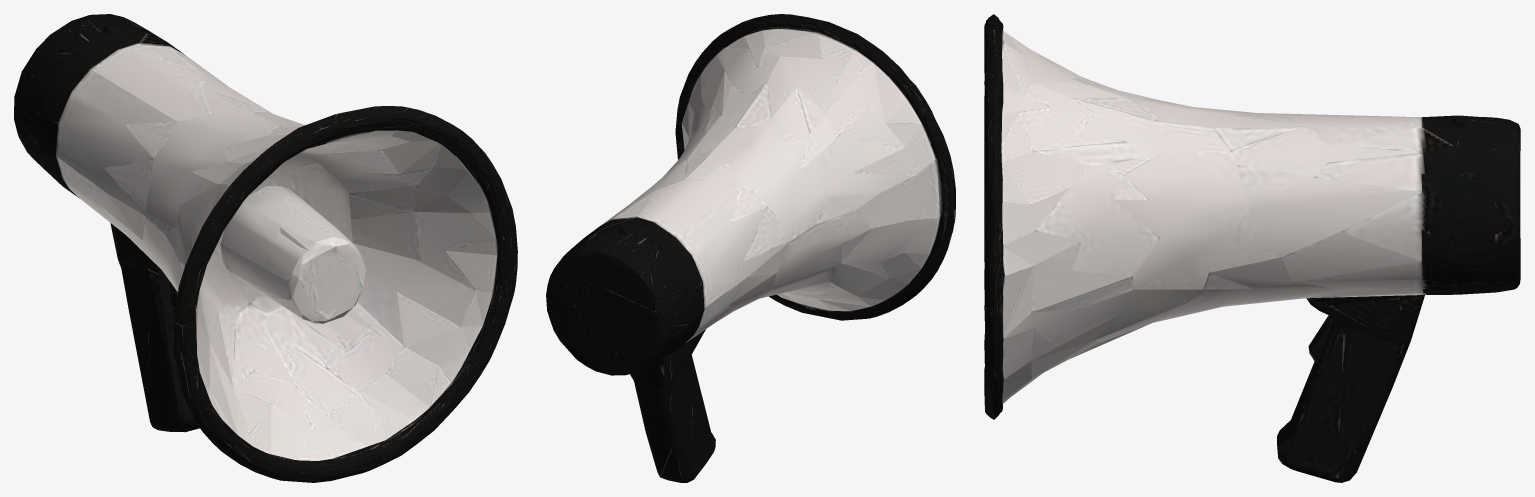
Rendered from megaphone.glb.
The picture shows the model from 3 angles, left to right: view 1: azimuth 30°, elevation 25°; view 2: azimuth 150°, elevation 25°; view 3: azimuth 270°, elevation 25°; orthographic projection. The views are drawn at different scales.
Visible parts, largest first — view 1: output_unwrapped; view 2: output_unwrapped; view 3: output_unwrapped.
Boxes of the visible parts, left/top/right/bottom form: output_unwrapped: left=14, top=14, right=517, bottom=482; output_unwrapped: left=546, top=14, right=955, bottom=482; output_unwrapped: left=984, top=14, right=1520, bottom=482.
Bounding box in the file's own units: 1.41 × 1.72 × 1.89.
Materials: 1 (1 with a texture image).
